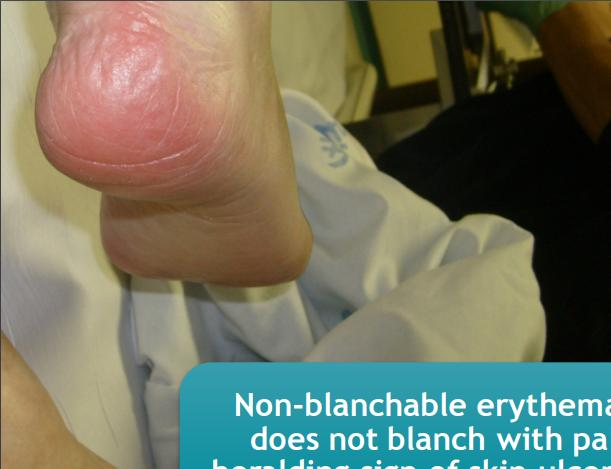Stage1: (36, 13, 216, 181)
